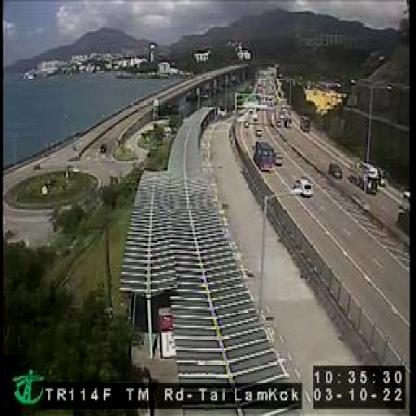Bus: (253, 140, 273, 172)
Car: (294, 177, 312, 196), (329, 163, 342, 177), (273, 151, 282, 166)
Truck: (348, 160, 378, 194)
